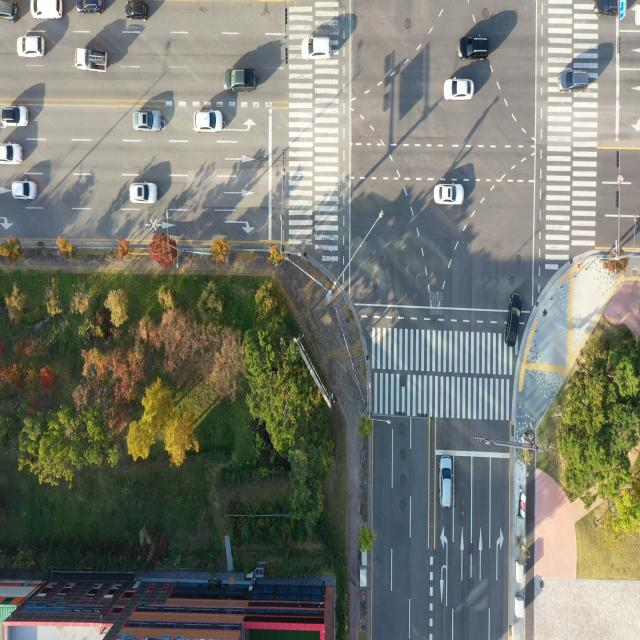car: (506, 292, 526, 351), (227, 66, 260, 96), (458, 32, 491, 59), (558, 66, 591, 93), (132, 108, 165, 134), (300, 36, 335, 60), (15, 36, 48, 61), (0, 104, 31, 130), (441, 456, 455, 511), (436, 184, 465, 208), (444, 81, 474, 103), (196, 109, 223, 133), (31, 0, 63, 20), (0, 0, 24, 25), (122, 0, 146, 23), (130, 182, 155, 204), (0, 143, 22, 167), (13, 179, 36, 200), (595, 0, 619, 20), (76, 0, 105, 14)
small_truck: (75, 47, 108, 79)
